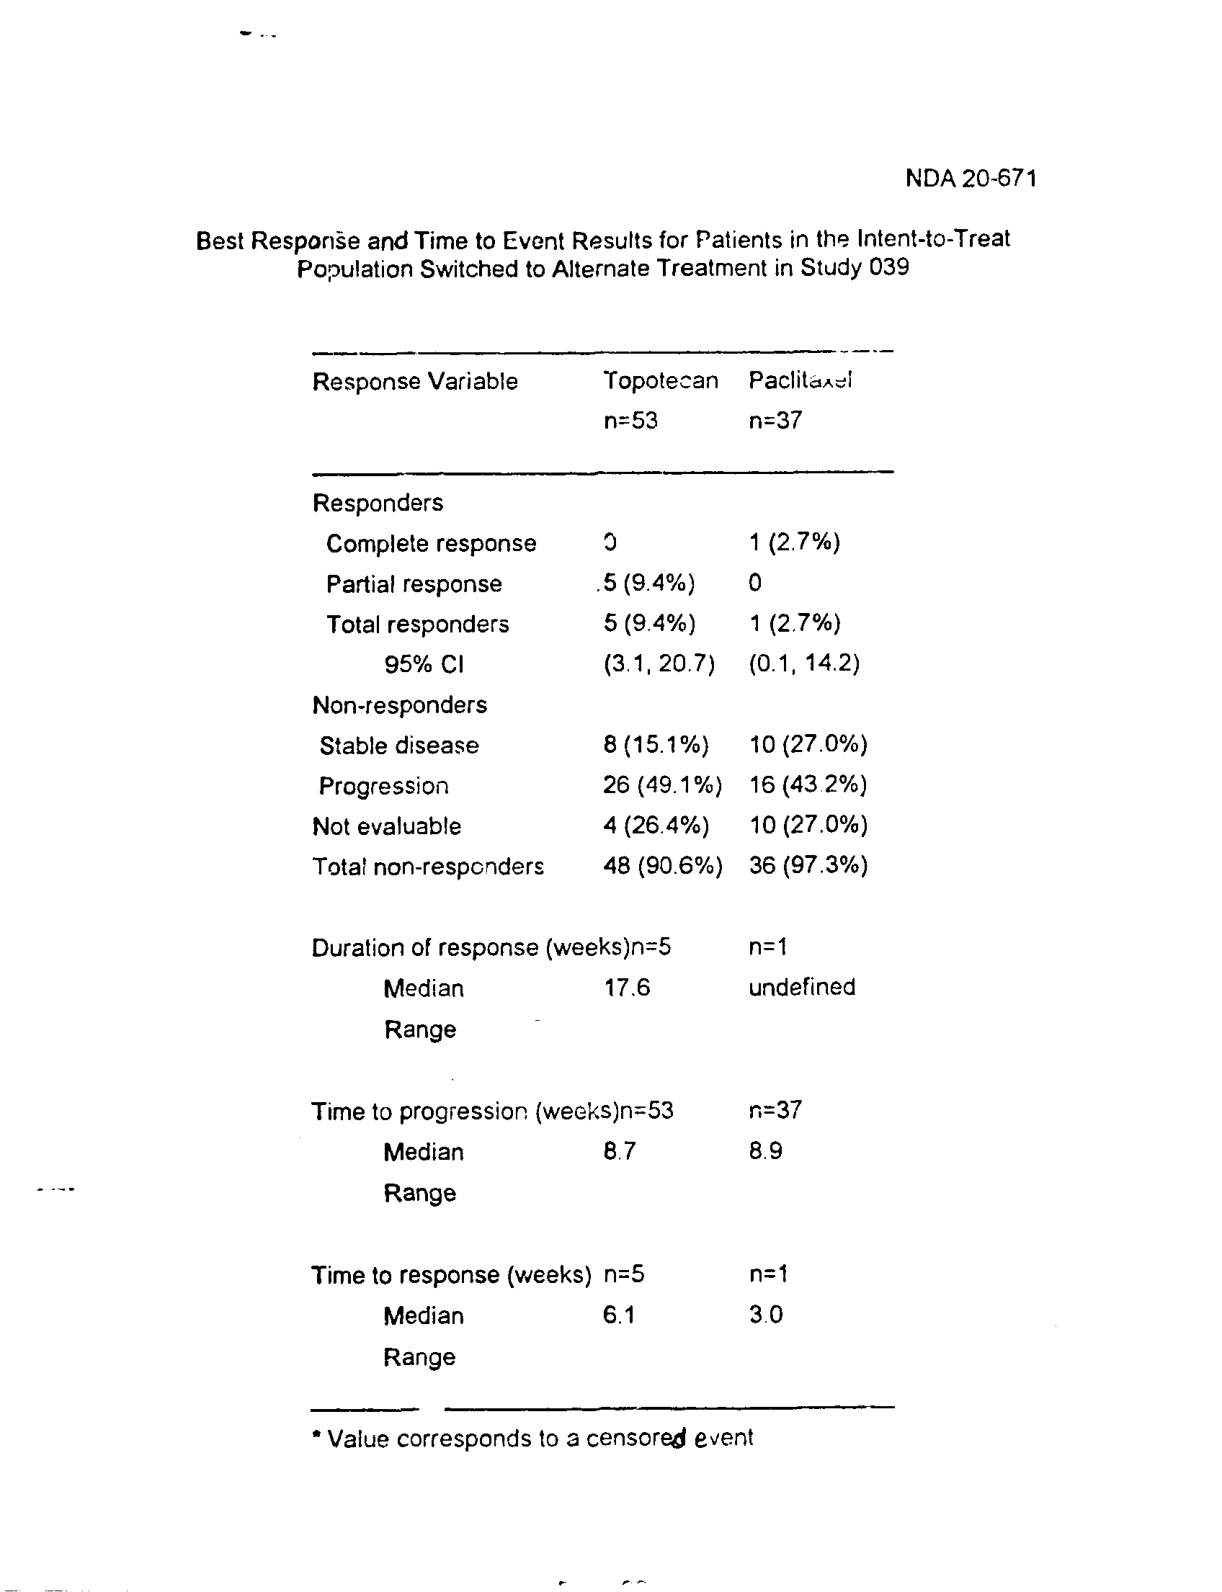partial_lined: (309, 345, 901, 1414)
